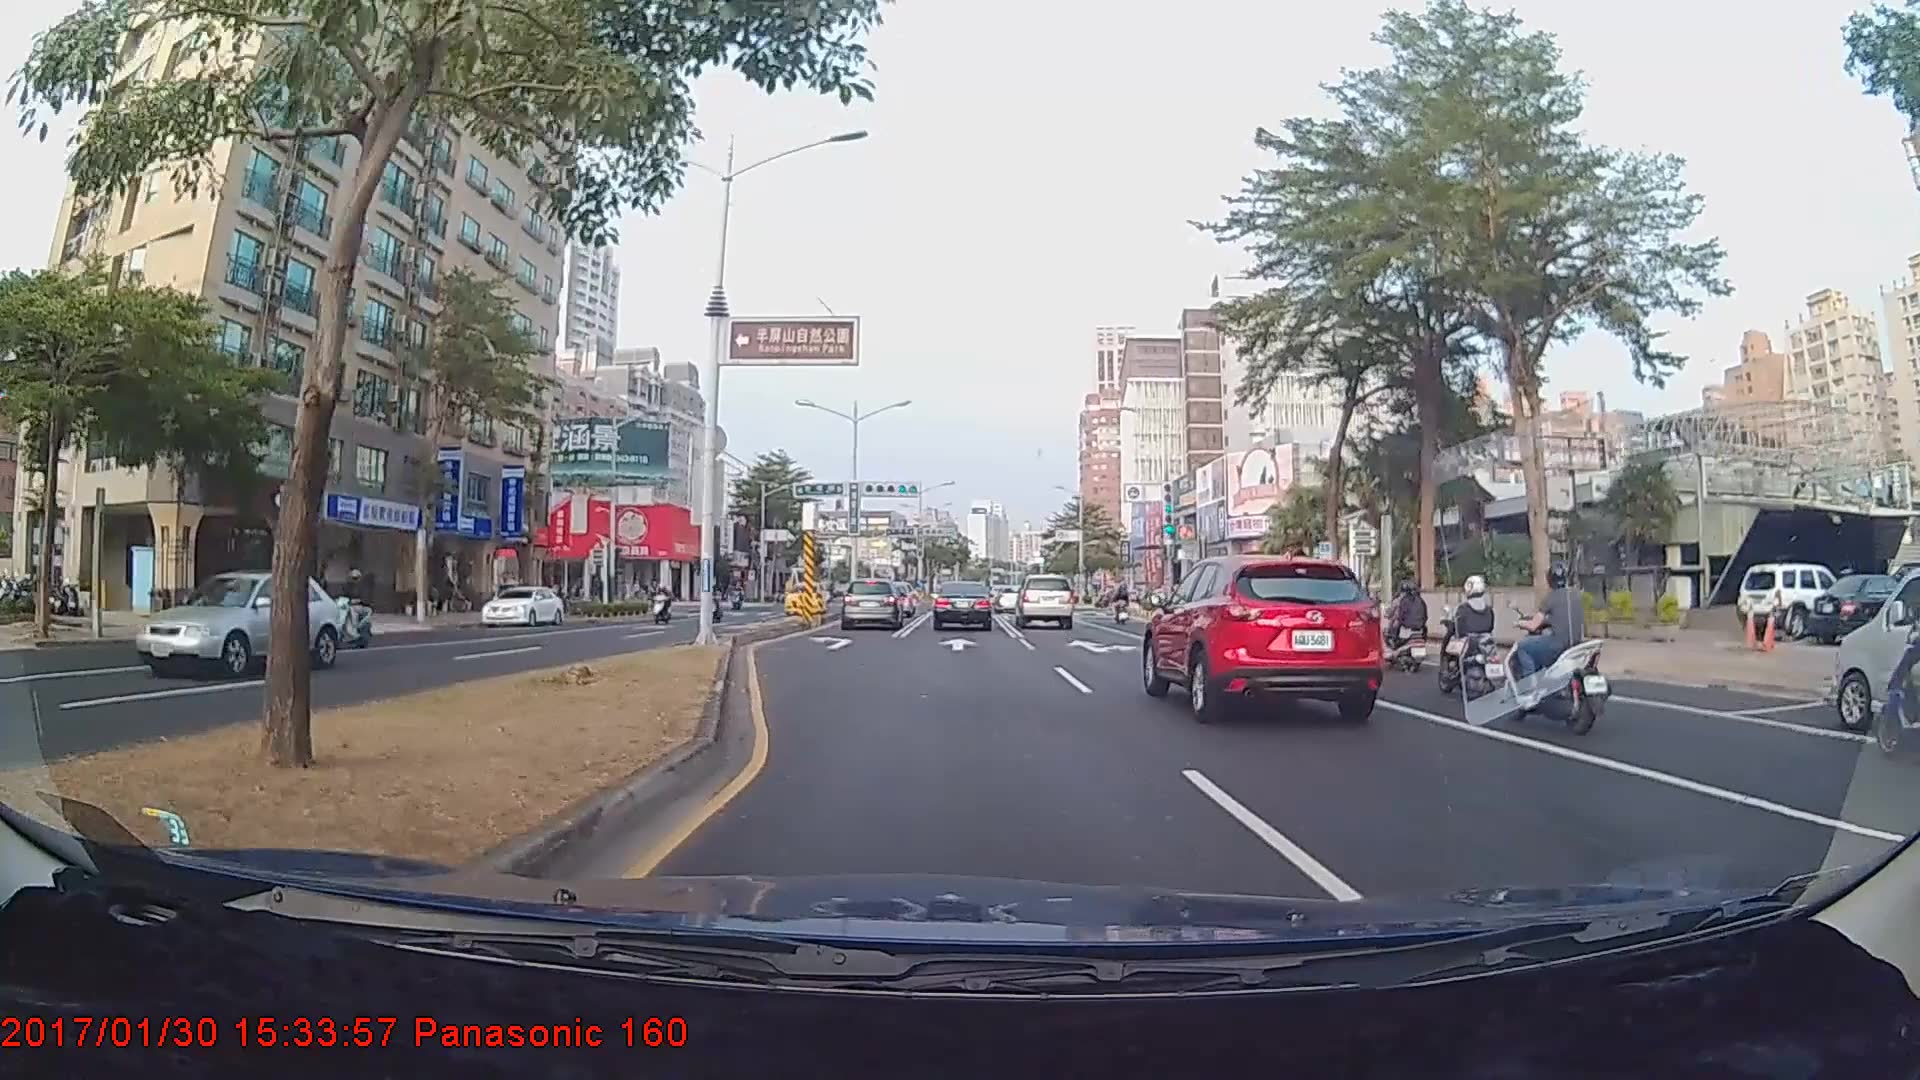rider: (1498, 562, 1616, 737), (1430, 569, 1511, 695), (1374, 572, 1433, 675), (326, 569, 382, 651), (645, 576, 680, 632)
vehicle: (1148, 547, 1385, 720), (135, 566, 339, 686), (1830, 558, 1919, 730), (1736, 563, 1845, 636), (482, 582, 562, 630), (839, 578, 904, 631), (1015, 572, 1076, 630), (932, 579, 993, 631), (782, 581, 828, 616)
